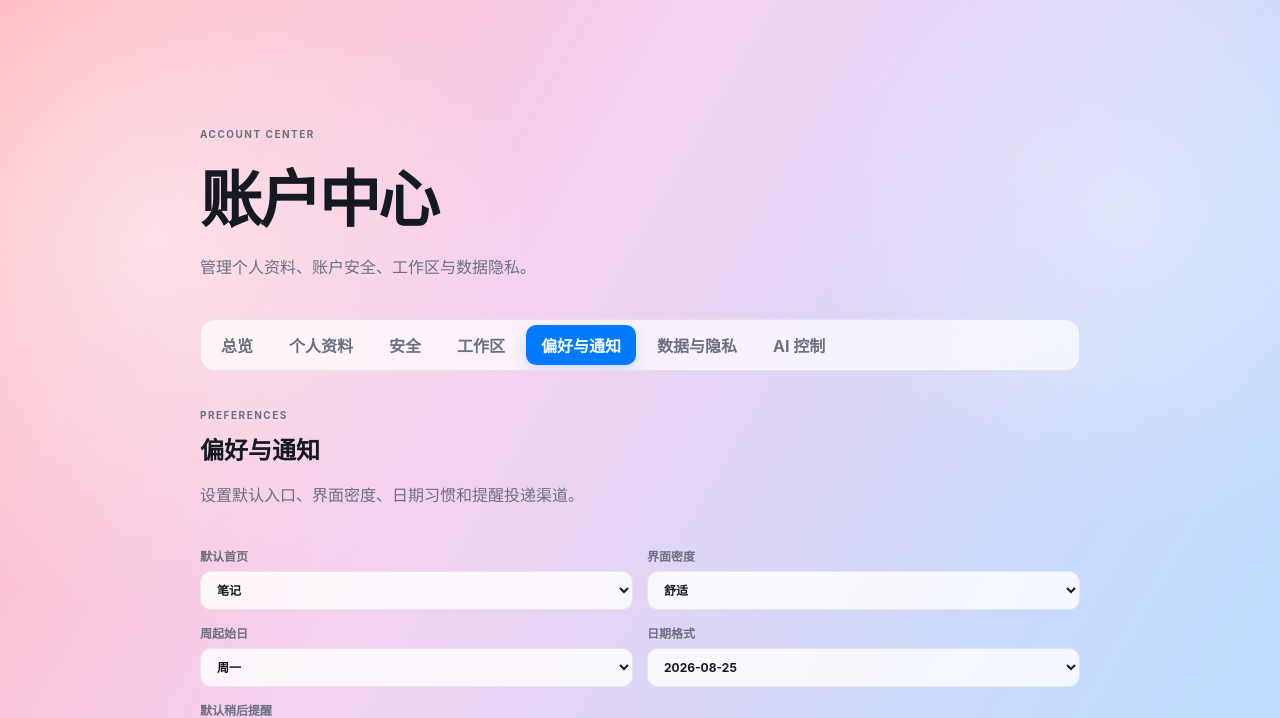
it: account depth UI › saves preference controls and revokes other sessions from security
The image size is (1280, 718).
Select "紧凑" in the dropdown labelled "界面密度" at (864, 590), box [647,571,1080,610]
(page scrolled)
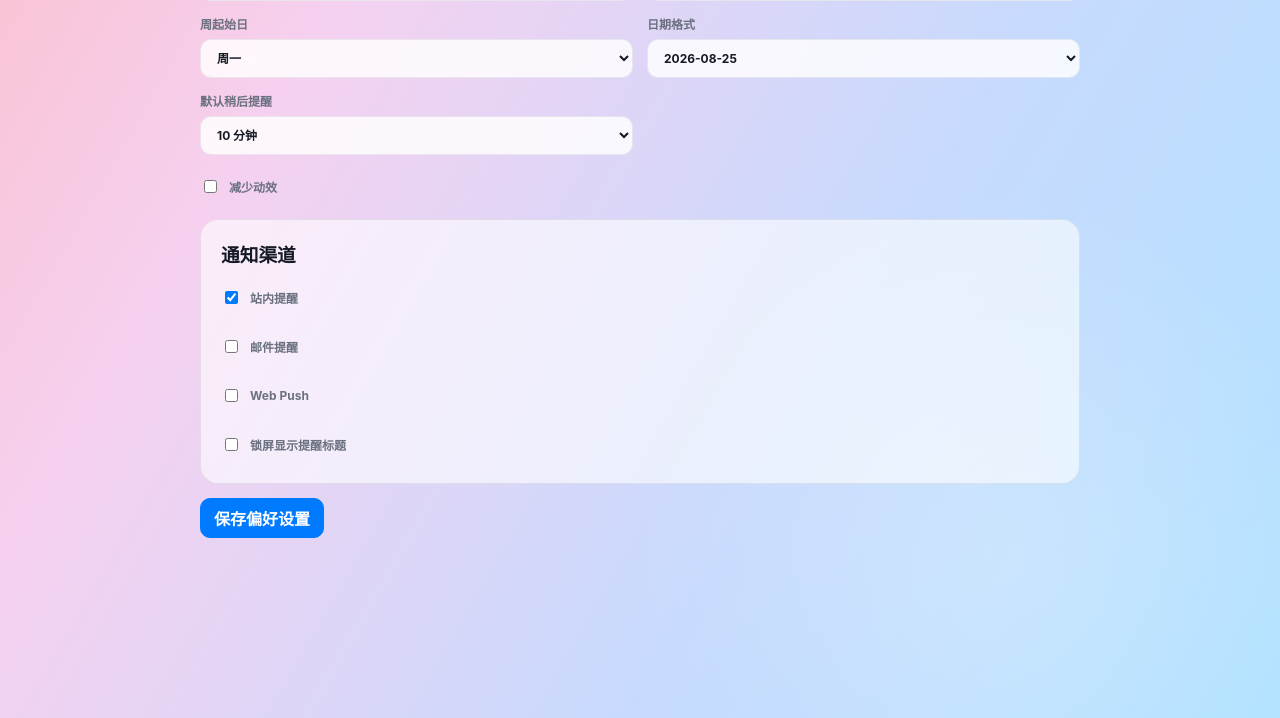
Click the button "保存偏好设置" at (262, 518), box [200,498,324,538]
(page scrolled)
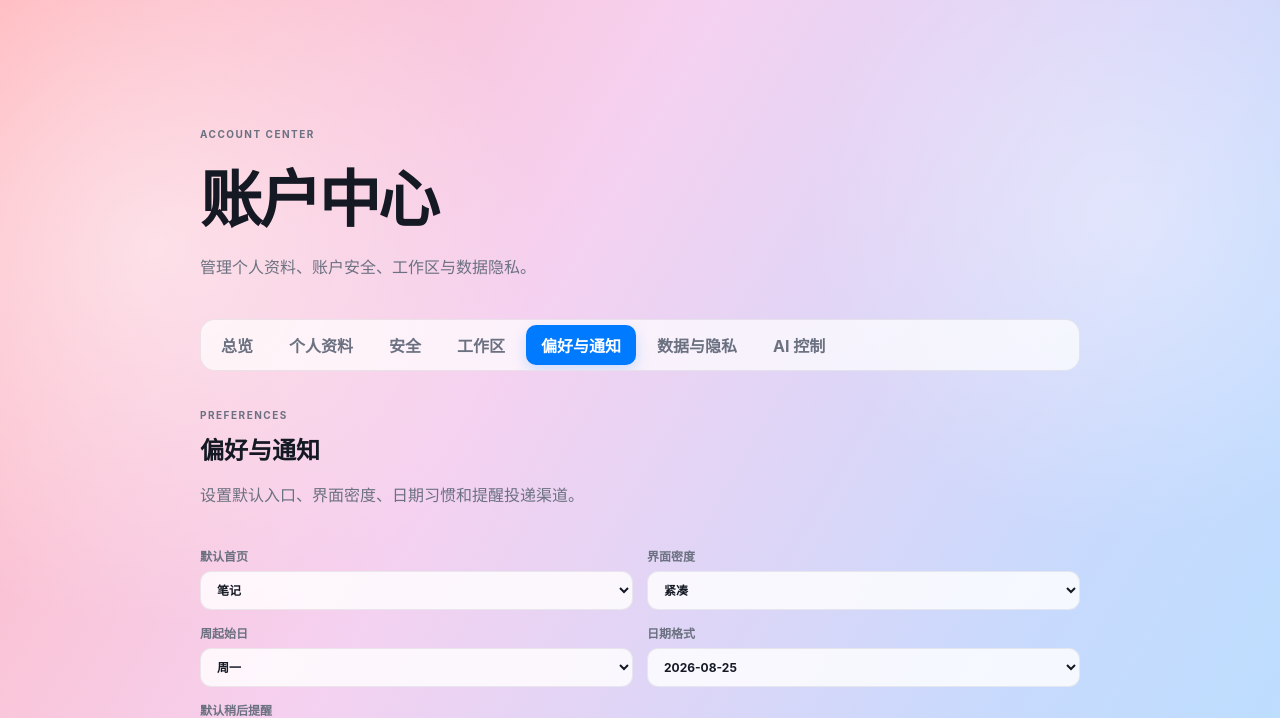
Click the tab "安全" at (405, 345), box [374,325,436,365]
(page scrolled)
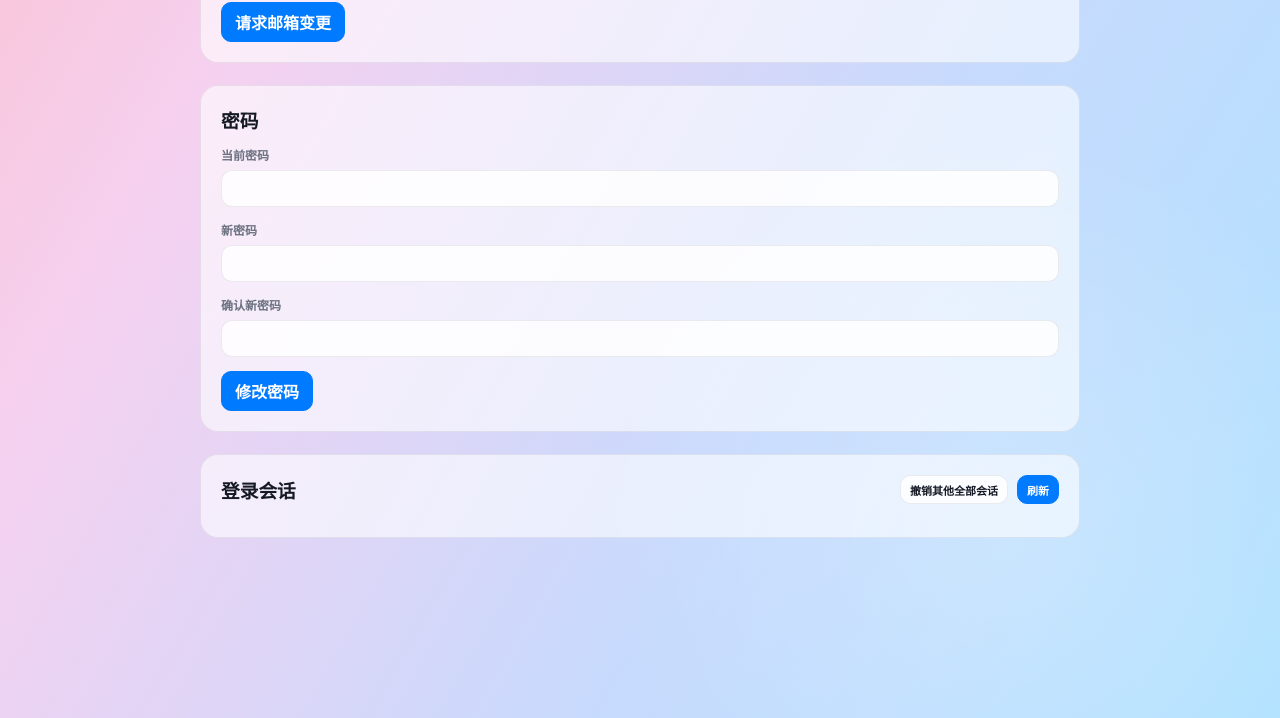
Click the button "撤销其他全部会话" at (954, 490), box [900,475,1008,504]
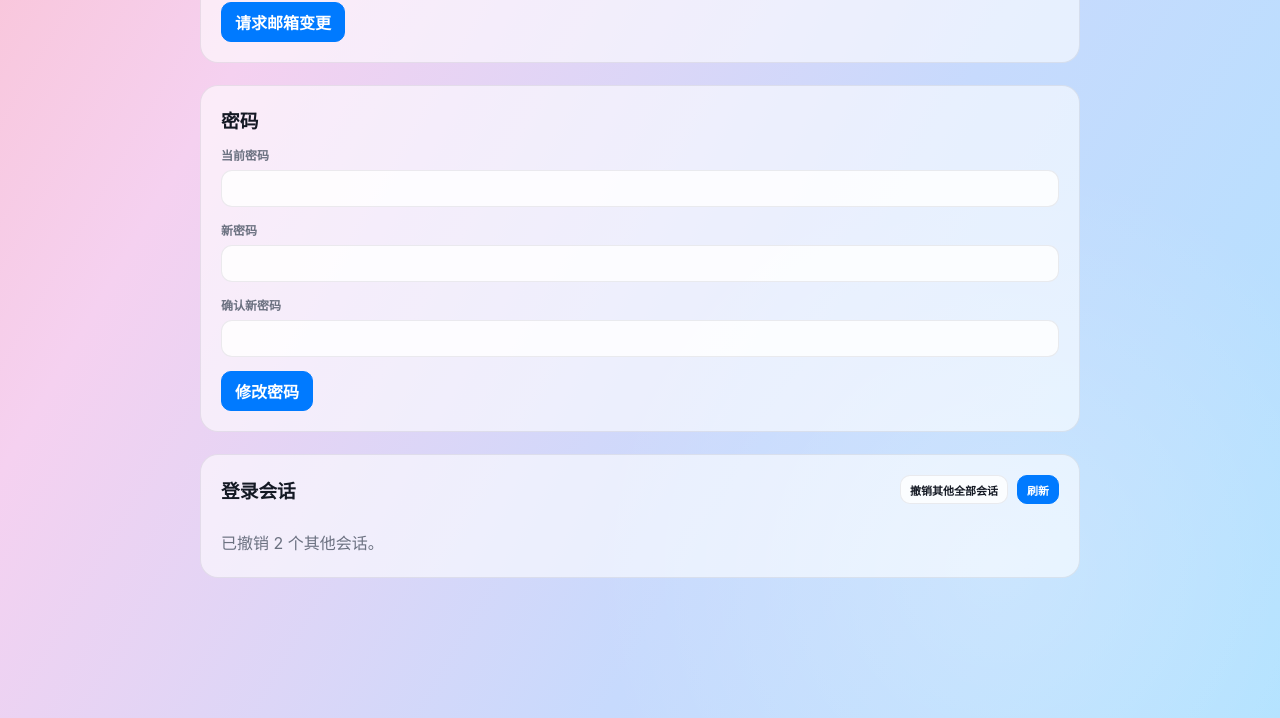
Now the text "已撤销 2 个其他会话。" is shown, box [221,533,384,553]
